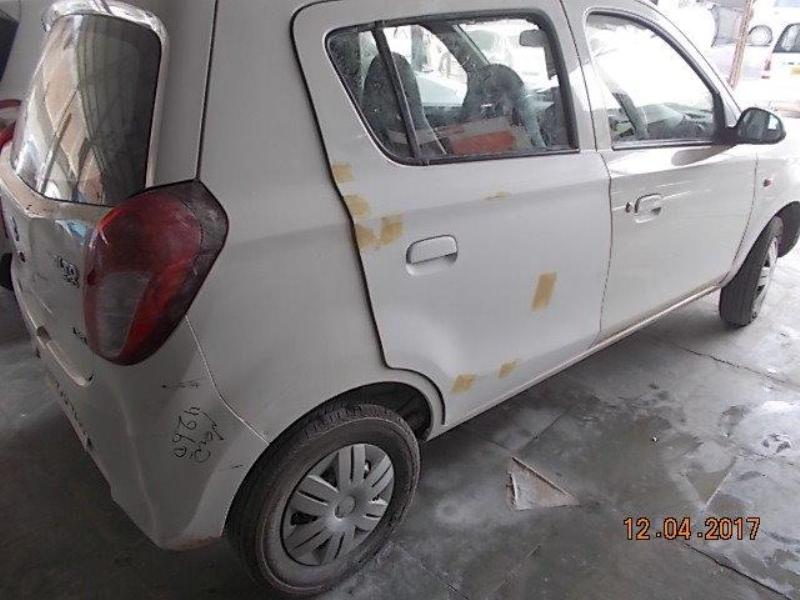Scratch_or_spot: (451, 372, 483, 394), (341, 155, 362, 185), (536, 274, 553, 310), (361, 217, 383, 244), (349, 194, 368, 217), (496, 357, 525, 370), (390, 215, 404, 237)
